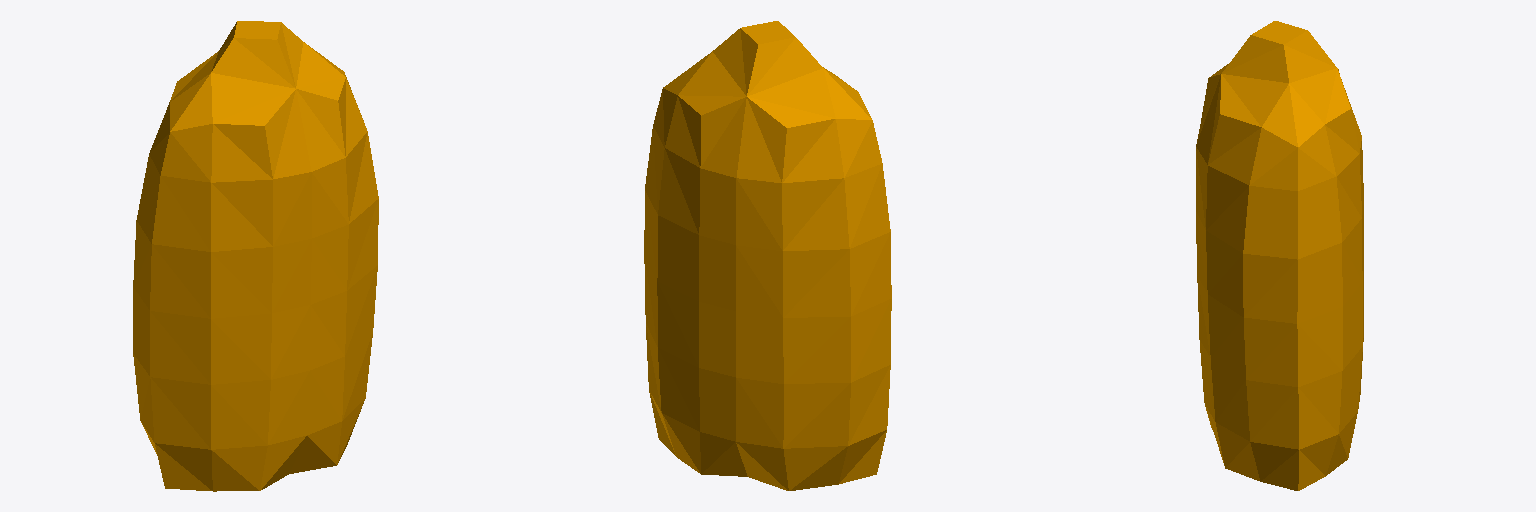
The robot description file, URDF, robot "mustard":
<?xml version="2.0" ?>
<robot name="mustard" xmlns:xacro="http://www.ros.org/wiki/xacro">
    <link name="mustard">
        <contact>
            <restitution value="0.1" />
            <rolling_friction value="0.01"/>
            <spinning_friction value="0.01"/>
        </contact>
        <inertial>
            <origin rpy="0 0 0.0" xyz="0 0 0"/>
            <mass value="2.0"/>
            <inertia ixx="0.01" ixy="0" ixz="0" iyy="0.01" iyz="0" izz="0.001"/>
        </inertial>
        <visual>
            <origin rpy="0 0 0.0" xyz="0 0 0"/>
            <geometry>
                <mesh filename="package://kuka_gripper_description/meshes/mustard.obj"/>
            </geometry>
            <material name="mustard">
                <texture filename="package://kuka_gripper_description/meshes/mustard.png"/>
            </material> 
        </visual>
        <collision>
            <origin rpy="0 0 0.0" xyz="0 0 0"/>
            <geometry>
                <mesh filename="package://kuka_gripper_description/meshes/mustard.obj"/>
            </geometry>
        </collision>
    </link>
</robot>

--- What the picture shows (computed from the rendered views, not written in the file) ---
The picture shows the robot from 3 angles, left to right: view 1: azimuth 30°, elevation 25°; view 2: azimuth 150°, elevation 25°; view 3: azimuth 270°, elevation 25°; orthographic projection.
Robot: mustard — 1 links, 0 joints (none); root link mustard; default pose: every joint at zero.
Visible links, largest first — view 1: mustard; view 2: mustard; view 3: mustard.
Link boxes in pixels (x1=…): mustard: x1=133, y1=21, x2=378, y2=491; mustard: x1=644, y1=21, x2=891, y2=490; mustard: x1=1196, y1=21, x2=1363, y2=490.
Bounding box of the posed robot: 0.1263 × 0.0827 × 0.2228 m (x, y, z).
1 mesh visuals loaded from 1 distinct referenced files (1 OBJ).